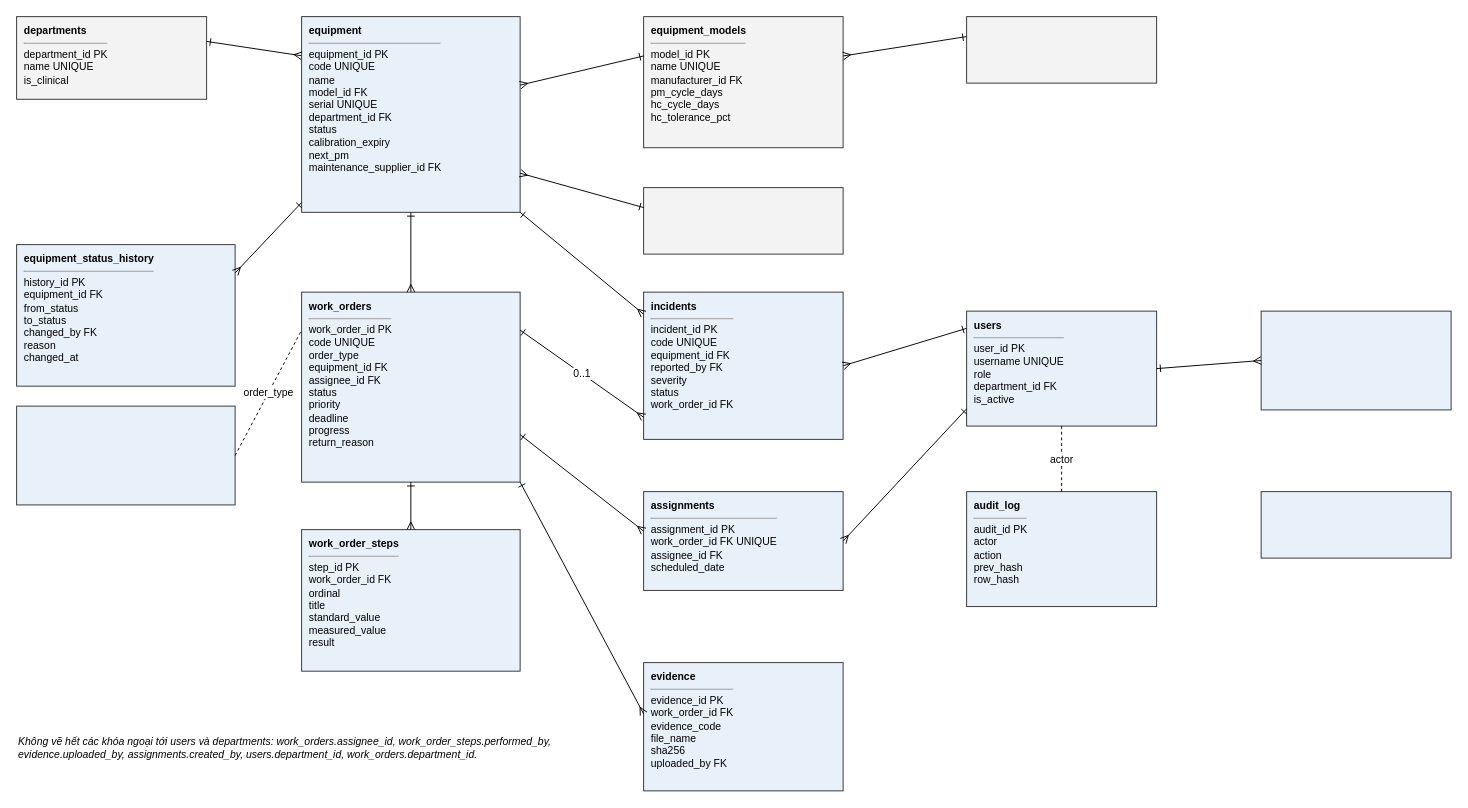
This 1468x808 diagram has some shape labels left out. Here are the shapes that lost their labels. From the top down, the centre of each, then its label:
At pixel 1061 49: "manufacturers manufacturer_id PK name UNIQUE".
At pixel 743 220: "suppliers supplier_id PK name UNIQUE".
At pixel 1355 360: "notifications notification_id PK user_id FK type is_read".
At pixel 125 455: "required_evidence_config config_id PK order_type evidence_code is_required".
At pixel 1355 524: "system_config config_key PK config_value".
